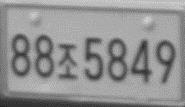4: (128, 37, 153, 83)
5: (83, 36, 104, 81)
8: (10, 32, 33, 78), (106, 38, 128, 81), (34, 34, 55, 78)
9: (155, 38, 176, 85)
조: (56, 43, 80, 81)
